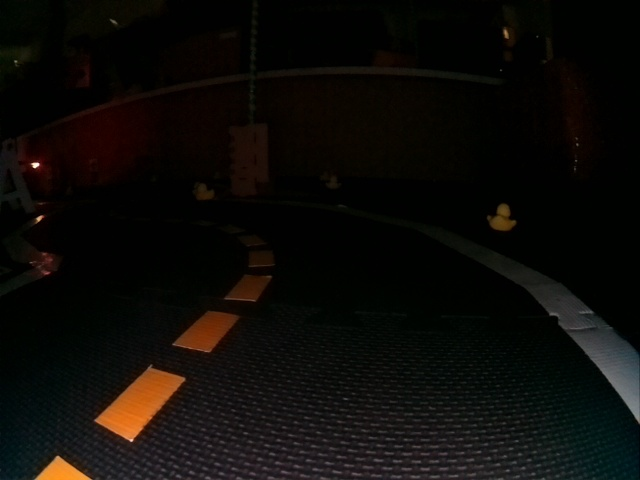Duckie: (487, 204, 516, 231), (197, 186, 213, 200), (331, 179, 337, 189)
